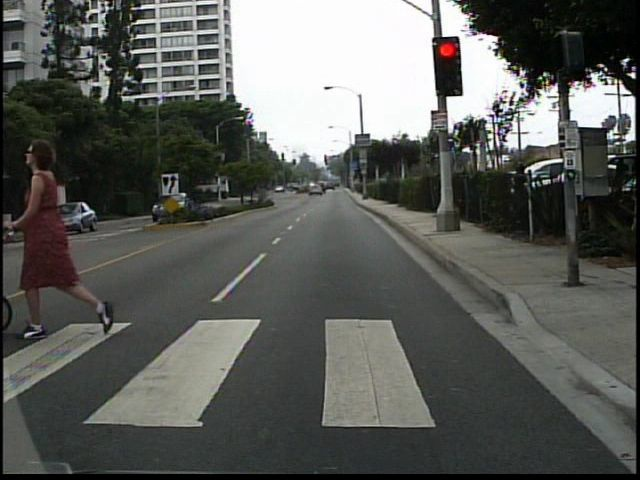person: (12, 131, 117, 341)
